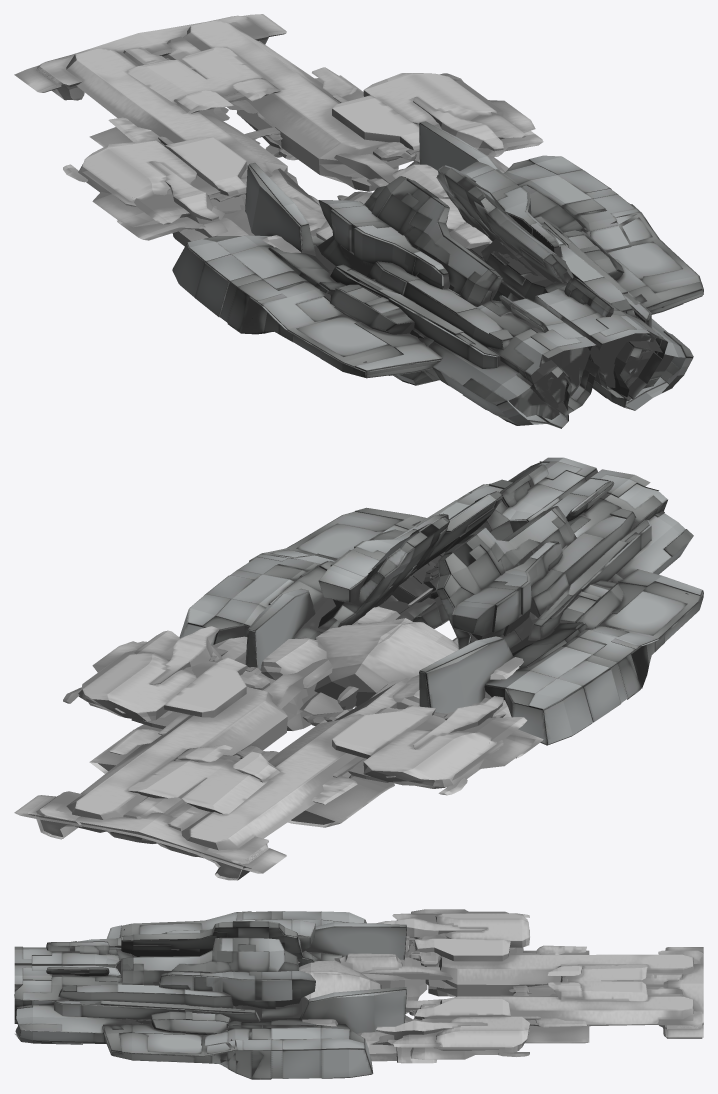
The model's file is Battlecruiser_001.fbx.
3 views of the same model, one above another, from view 1: azimuth 30°, elevation 25°; view 2: azimuth 150°, elevation 25°; view 3: azimuth 270°, elevation 25° (orthographic). The views are drawn at different scales.
Visible parts, largest first — view 1: Battlecruiser_001; view 2: Battlecruiser_001; view 3: Battlecruiser_001.
Boxes of the visible parts, <box> form: Battlecruiser_001: <box>14,14,703,428</box>; Battlecruiser_001: <box>14,457,703,880</box>; Battlecruiser_001: <box>14,909,703,1079</box>.
Size of the model in its own units: 42.56 by 12.71 by 82.5.
